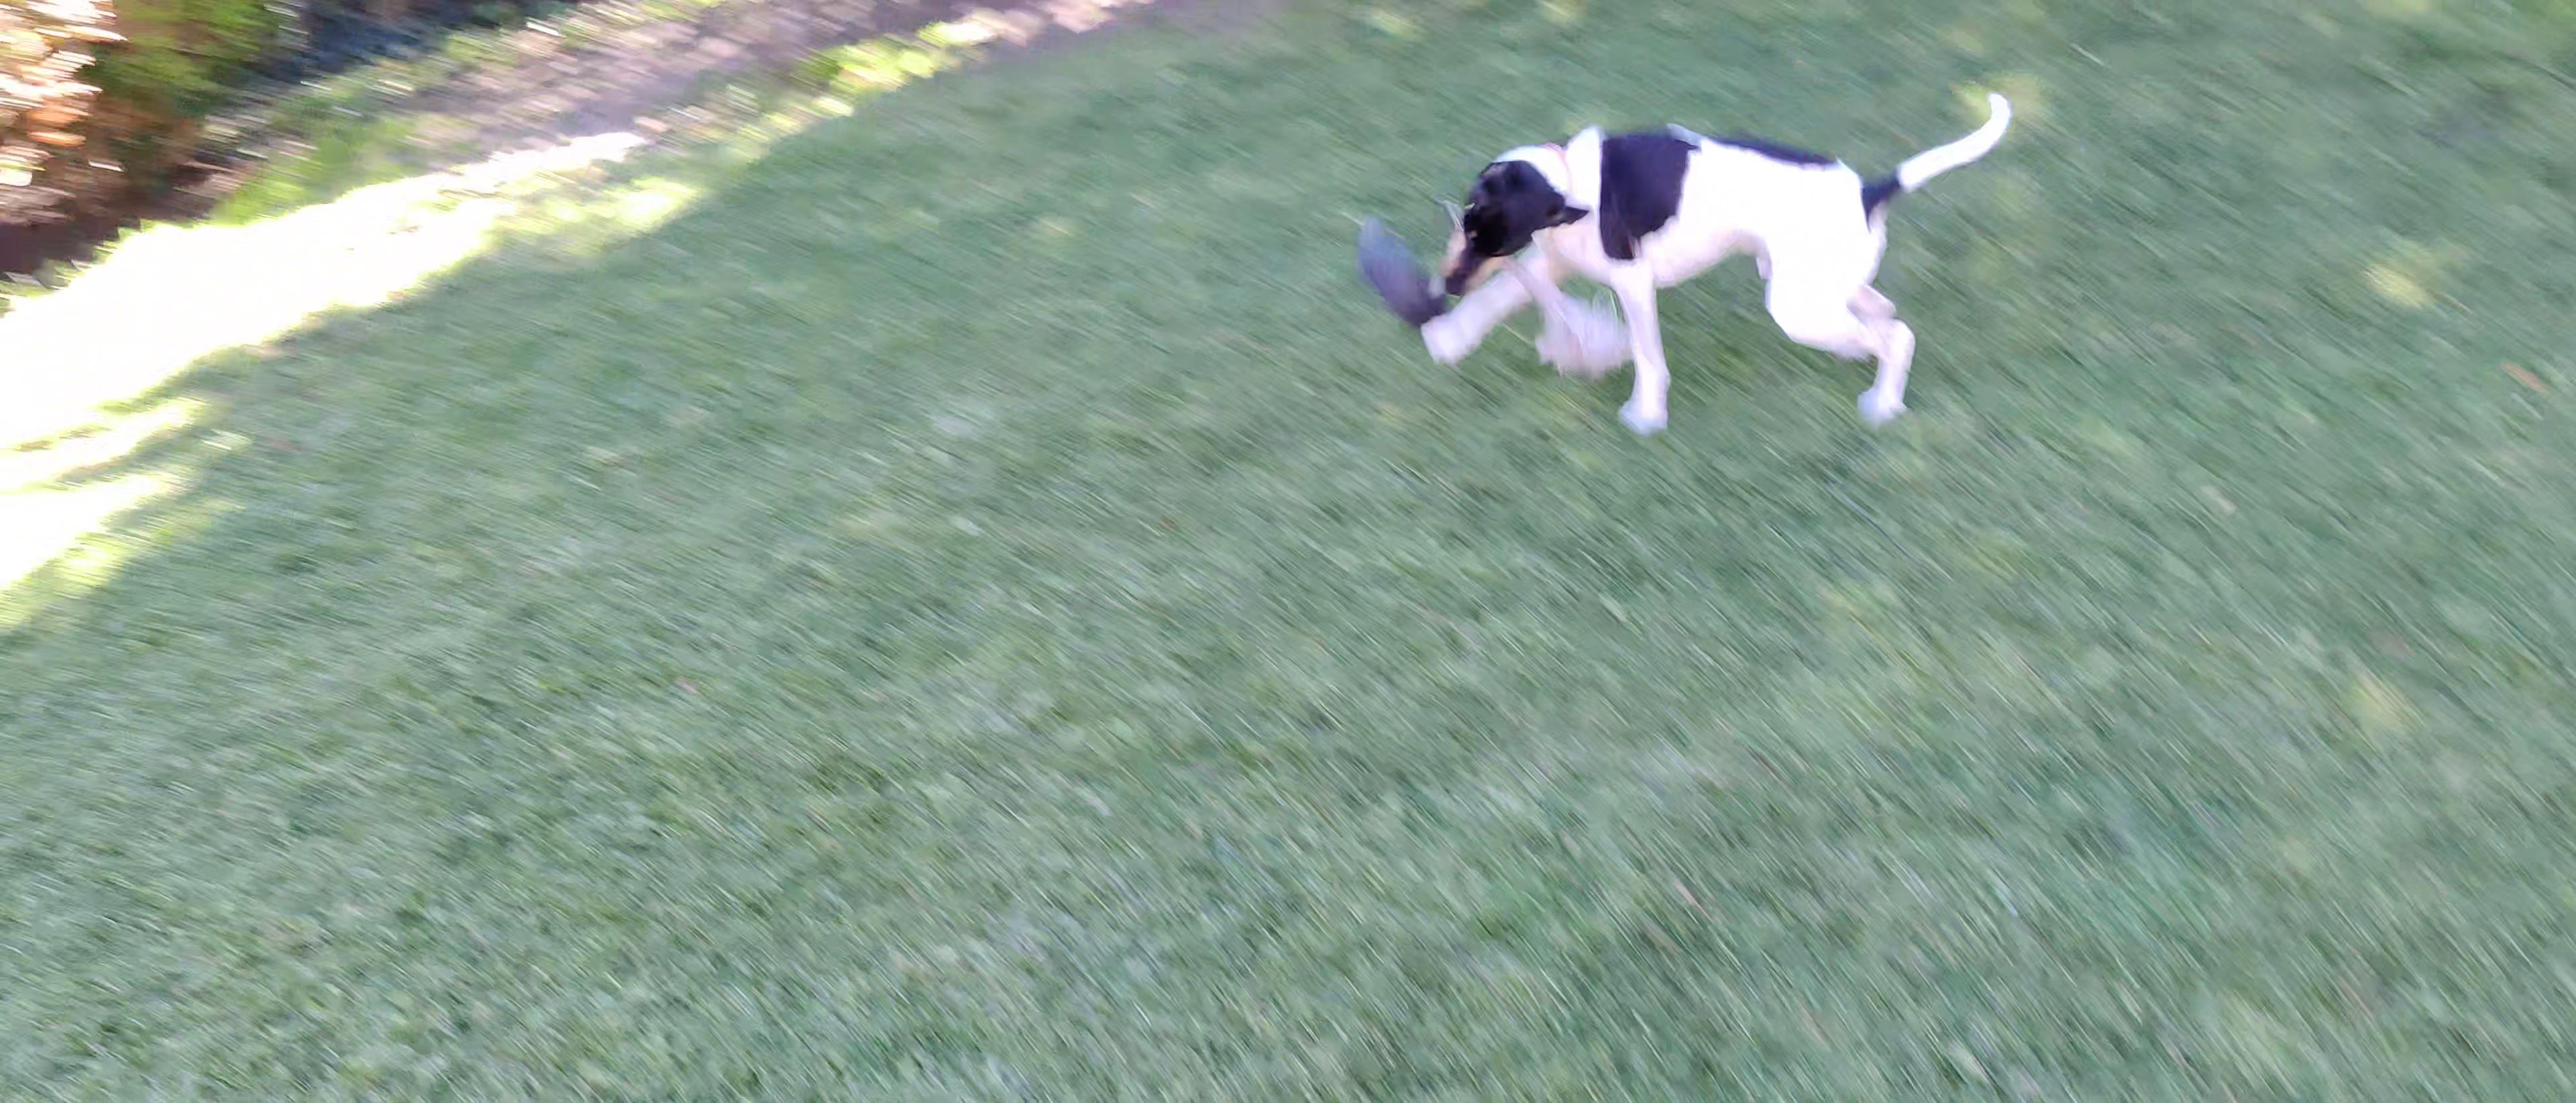Dog: (1398, 72, 2035, 462)
